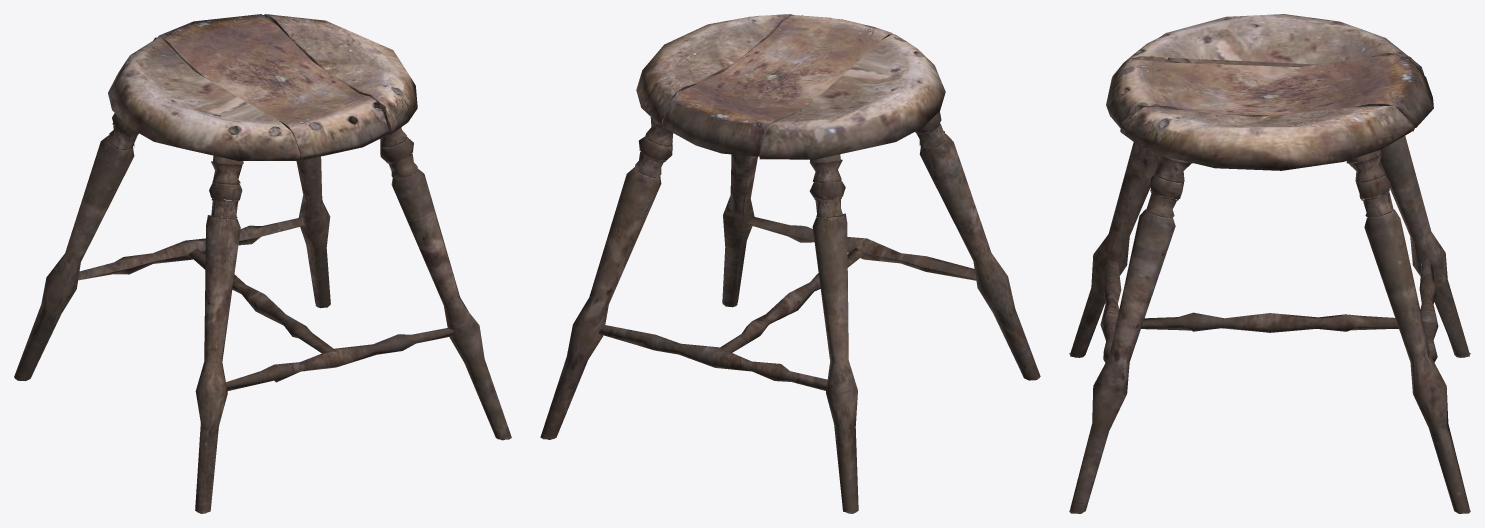
Rendered from stool_rustic.glb.
The picture shows the model from 3 angles, left to right: view 1: azimuth 30°, elevation 25°; view 2: azimuth 150°, elevation 25°; view 3: azimuth 270°, elevation 25°; orthographic projection. The views are drawn at different scales.
Visible parts, largest first — view 1: wooden_stool_01; view 2: wooden_stool_01; view 3: wooden_stool_01.
Boxes of the visible parts, x1,y1,x2,y2 form: wooden_stool_01: (14, 14, 511, 513); wooden_stool_01: (540, 14, 1040, 513); wooden_stool_01: (1069, 14, 1470, 513).
Bounding box in the file's own units: 0.4246 × 0.4379 × 0.4419.
1 material, 1 textured.
